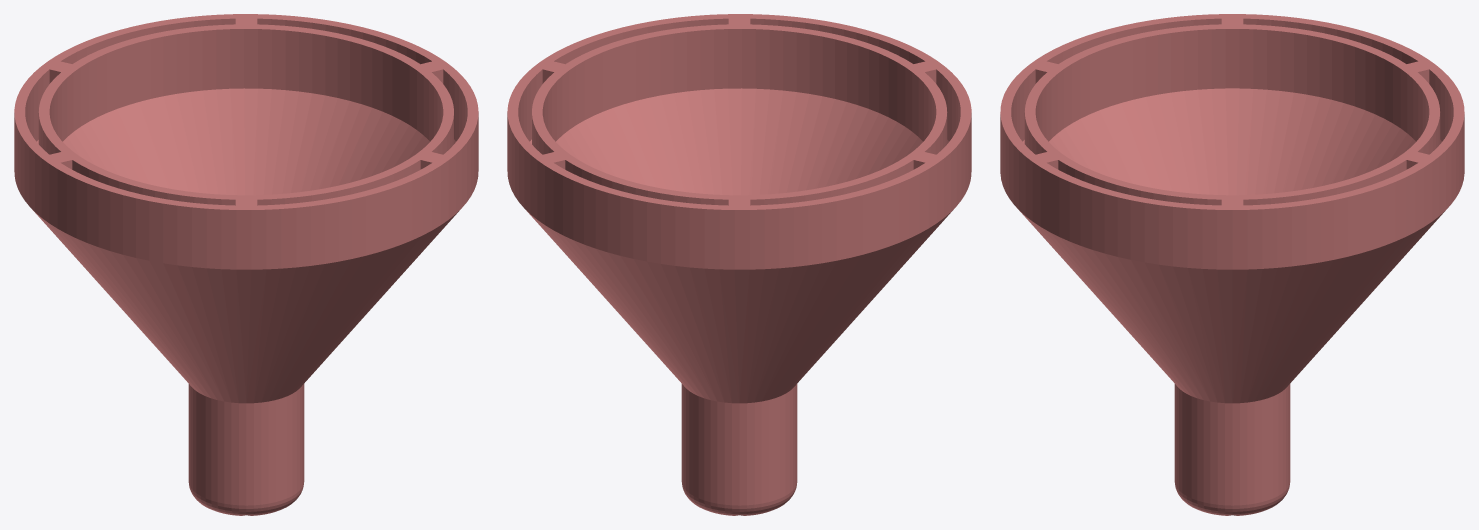
The model's file is demo-model.glb.
3 views of the same model, side by side, from view 1: azimuth 30°, elevation 25°; view 2: azimuth 150°, elevation 25°; view 3: azimuth 270°, elevation 25° (orthographic).
Parts seen in each view (by area): view 1: AirFunnel_XL.stl; view 2: AirFunnel_XL.stl; view 3: AirFunnel_XL.stl.
Part boxes in pixels (x1=…): AirFunnel_XL.stl: x1=14, y1=14, x2=478, y2=515; AirFunnel_XL.stl: x1=507, y1=14, x2=971, y2=515; AirFunnel_XL.stl: x1=1000, y1=14, x2=1464, y2=515.
Bounding box in the file's own units: 0.9523 × 0.8731 × 0.9524.
